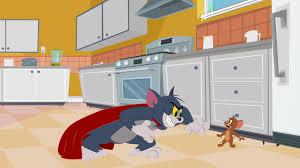tom: (77, 86, 211, 159)
